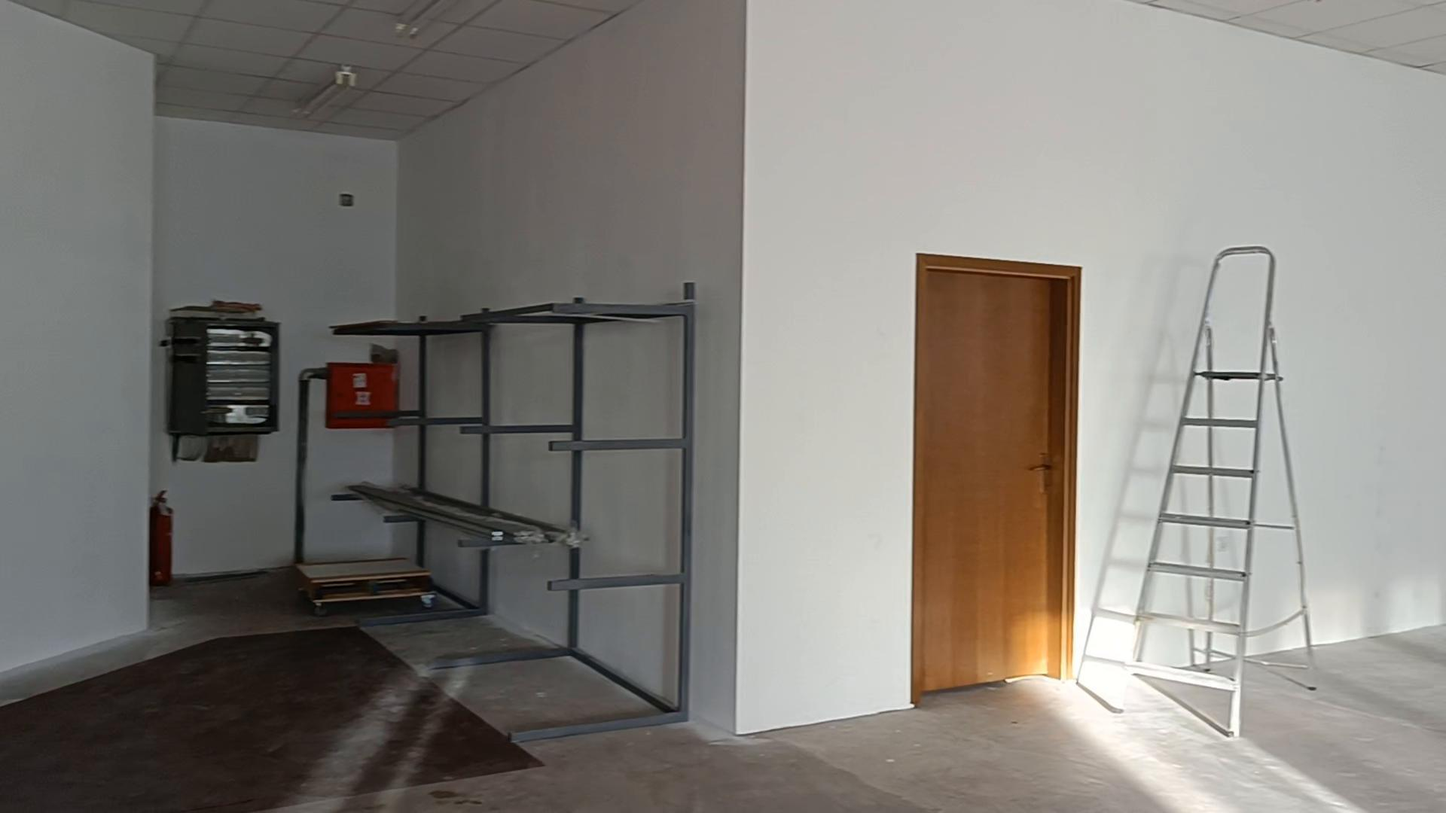ceiling: (19, 0, 639, 139), (1133, 0, 1445, 74)
floor: (274, 627, 1445, 812), (0, 569, 358, 705), (368, 619, 650, 730)
wall: (0, 0, 1445, 728), (581, 468, 675, 562), (576, 587, 674, 675), (591, 335, 664, 429), (501, 325, 564, 408), (490, 443, 560, 514), (420, 438, 477, 492), (429, 350, 471, 410)
